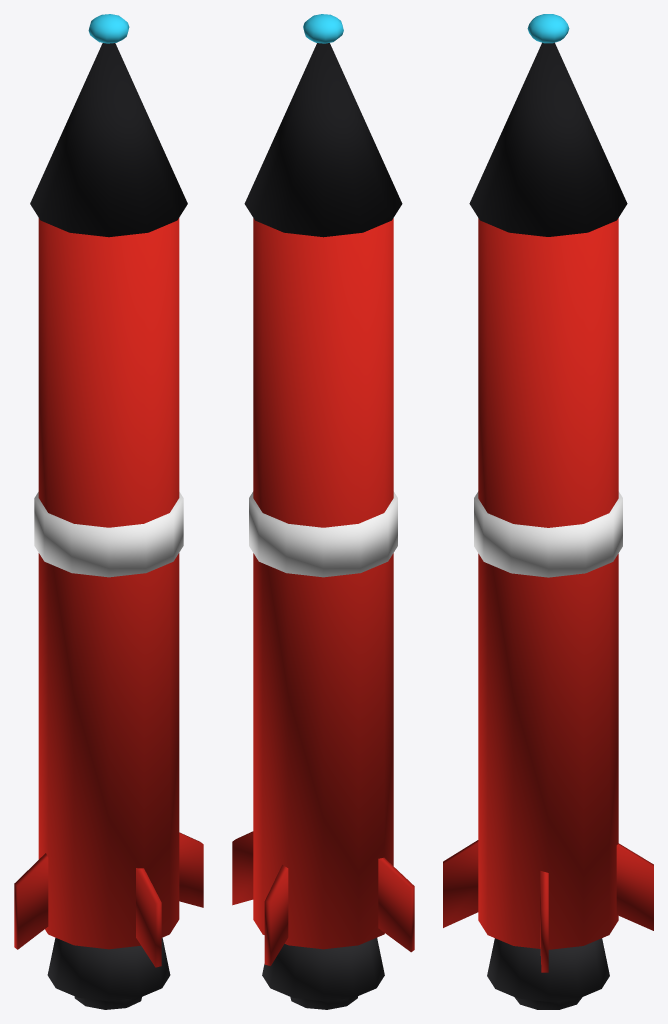
The model's file is homing_missile.obj.
3 views of the same model, side by side, from view 1: azimuth 30°, elevation 25°; view 2: azimuth 150°, elevation 25°; view 3: azimuth 270°, elevation 25° (orthographic).
Parts seen in each view (by area): view 1: Body, SeekerTip, Sensor; view 2: Body, SeekerTip, Sensor; view 3: Body, SeekerTip, Sensor.
Boxes of the visible parts, box(x1,y1,x2,y2) form: Body: box(14, 218, 203, 1009); SeekerTip: box(30, 43, 187, 237); Sensor: box(88, 14, 129, 43); Body: box(232, 218, 414, 1009); SeekerTip: box(244, 43, 402, 237); Sensor: box(303, 14, 343, 43); Body: box(443, 218, 653, 1009); SeekerTip: box(469, 42, 627, 236); Sensor: box(527, 14, 569, 43).
Size of the model in its own units: 0.24 by 1.23 by 0.24.
